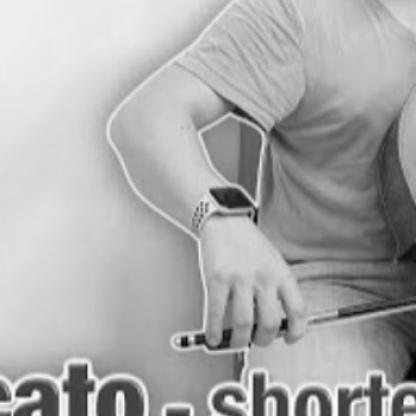good: (185, 240, 310, 359)
